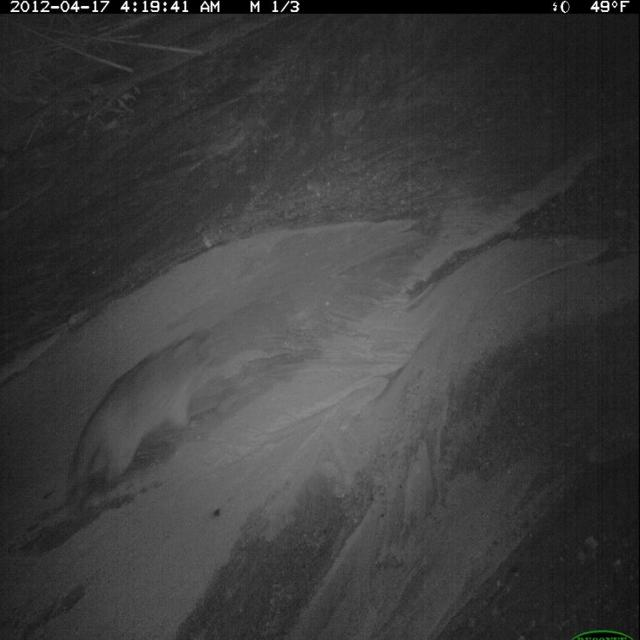raccoon: (70, 326, 221, 508)
